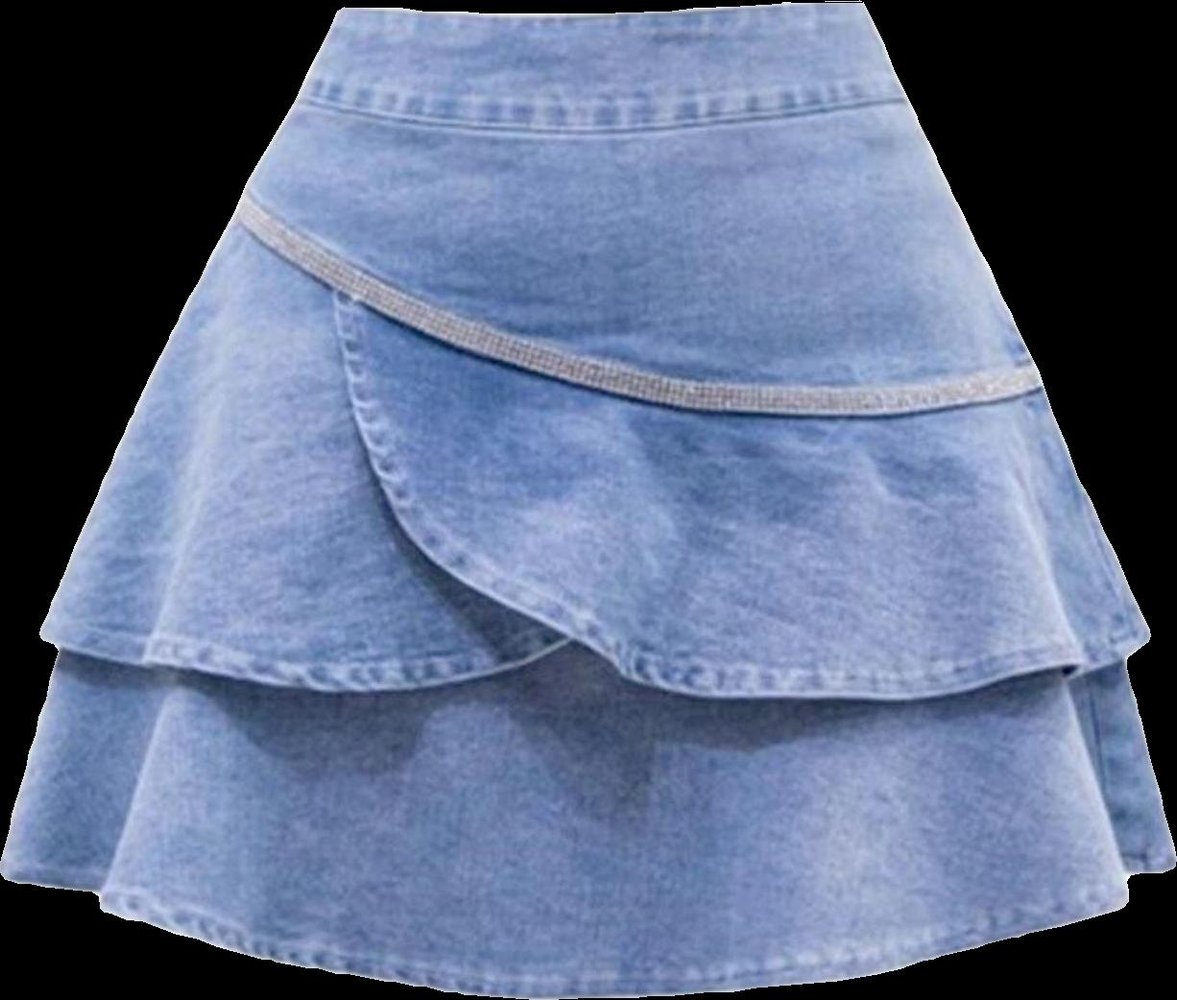Hemline: (330, 285, 1157, 708), (0, 858, 1176, 999), (34, 628, 570, 693)
Waistline: (230, 205, 1049, 423), (289, 88, 914, 137), (332, 0, 869, 28)
